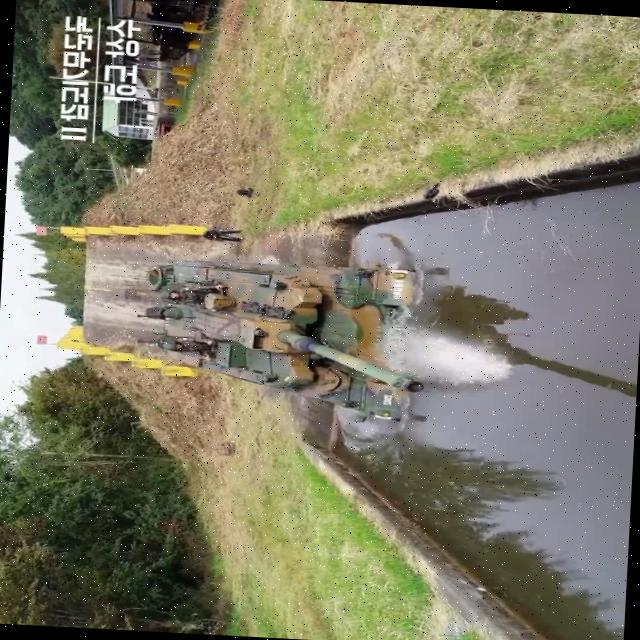korea tank: (125, 246, 434, 426)
